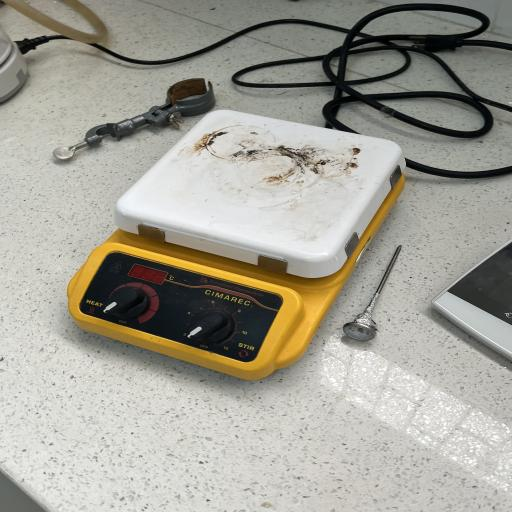Plancha_Agitacion_Cimarec: (58, 106, 447, 386)
